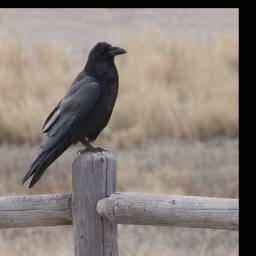Crow: (19, 40, 128, 191)
